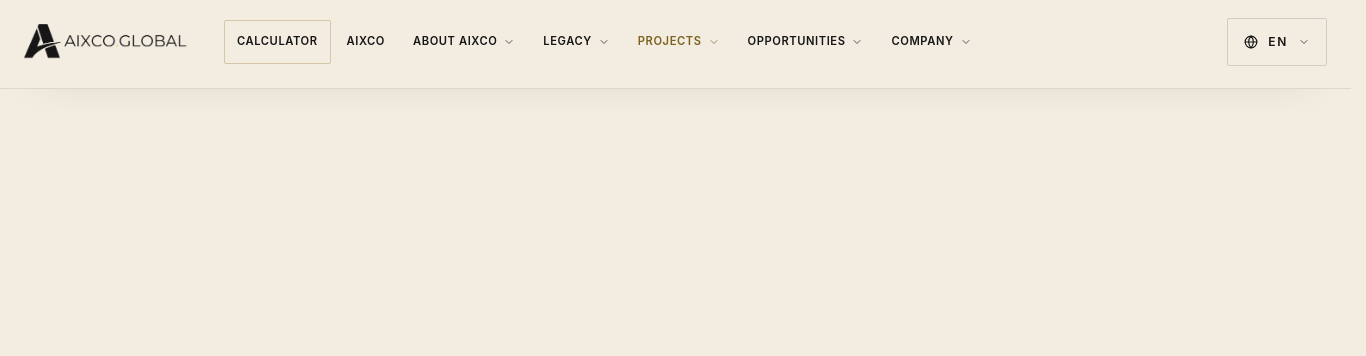
it: PropertyChrome › switches language and updates the document direction
What coordinates should you click on to do the following:
click the button with aria-label "change language"
I would click on:
 (1277, 42)
Its box is [1227, 18, 1327, 66].
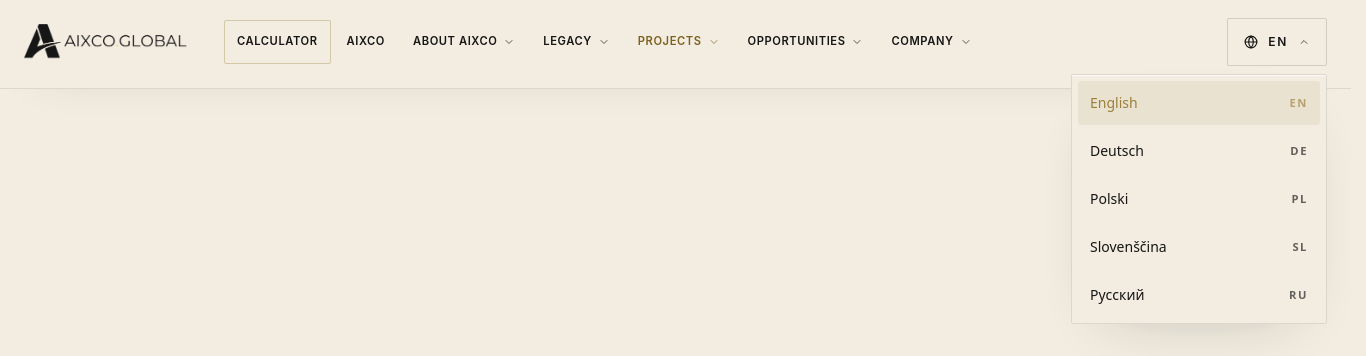
What coordinates should you click on to do the following:
click the button "Slovenščina SL"
I would click on:
 (1199, 247)
Its box is [1078, 225, 1320, 269].
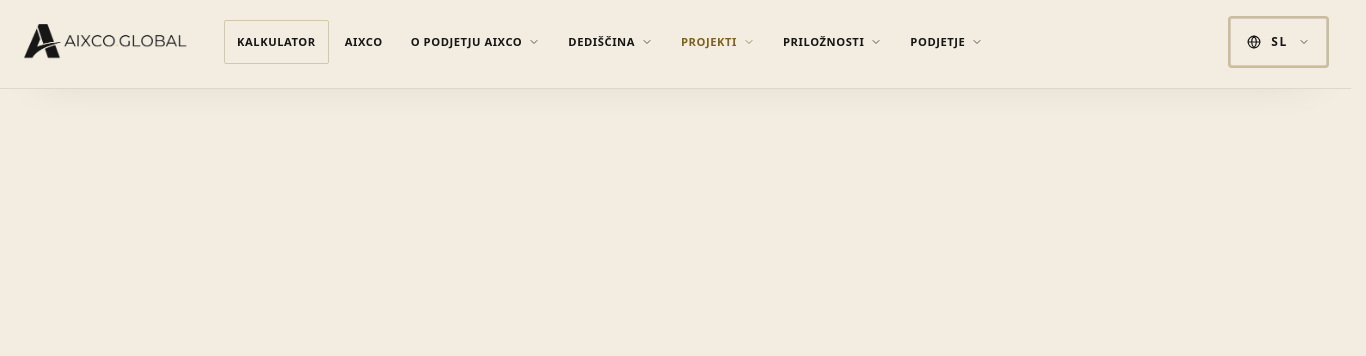
Result: the button "SL" is shown at [1230, 18, 1327, 66]
